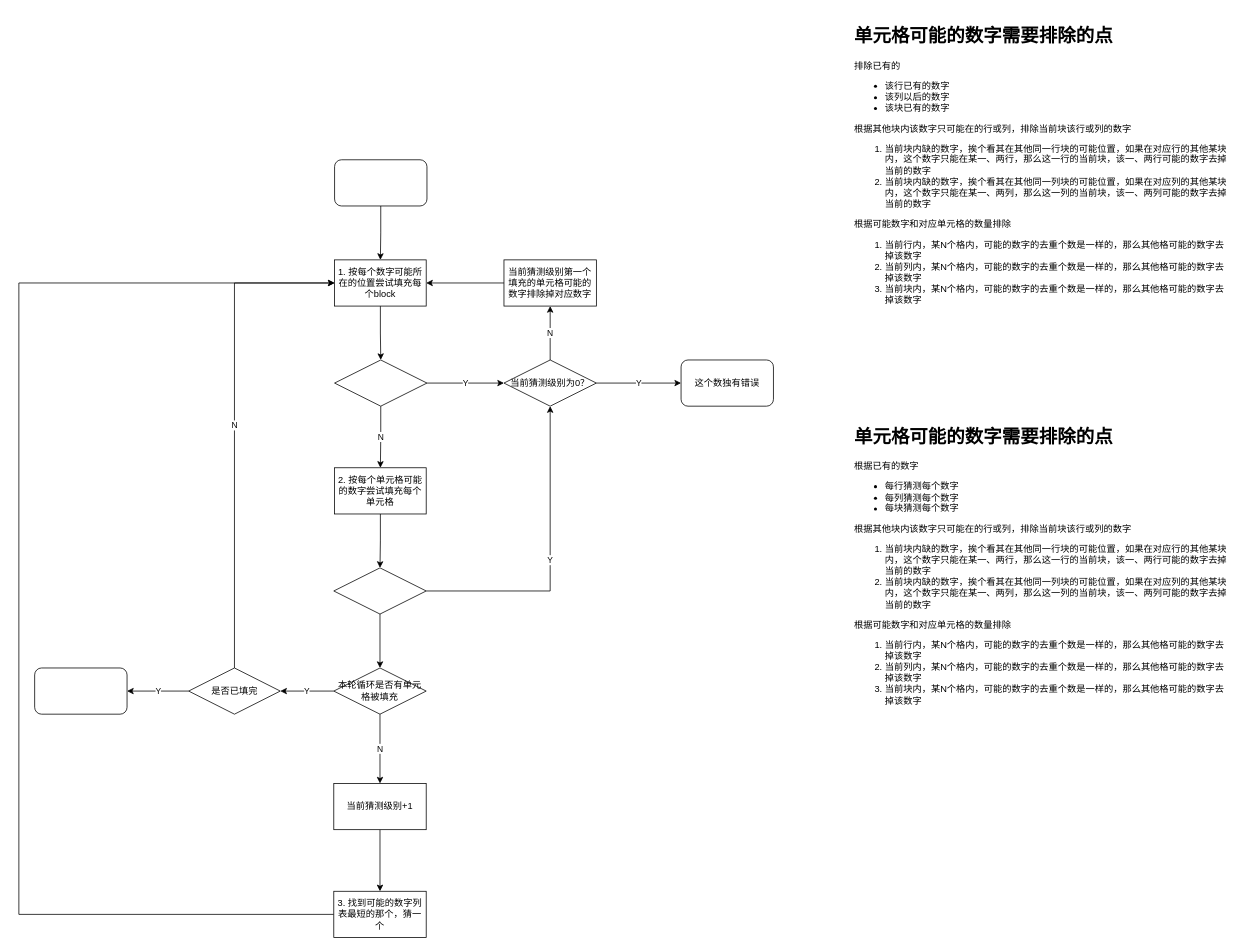
Some shapes in this 1249 by 951 pixel diagram are drawn without their labels. Each missing label, with the centre of its shape:
"开始" belongs at point 380,182.
"校验并计算完成，打印" belongs at point 80,690.
"过程中遇到错误（某个单元格无可能的数字）" belongs at point 379,590.
"过程中遇到错误（某个数字无位置）" belongs at point 380,382.
